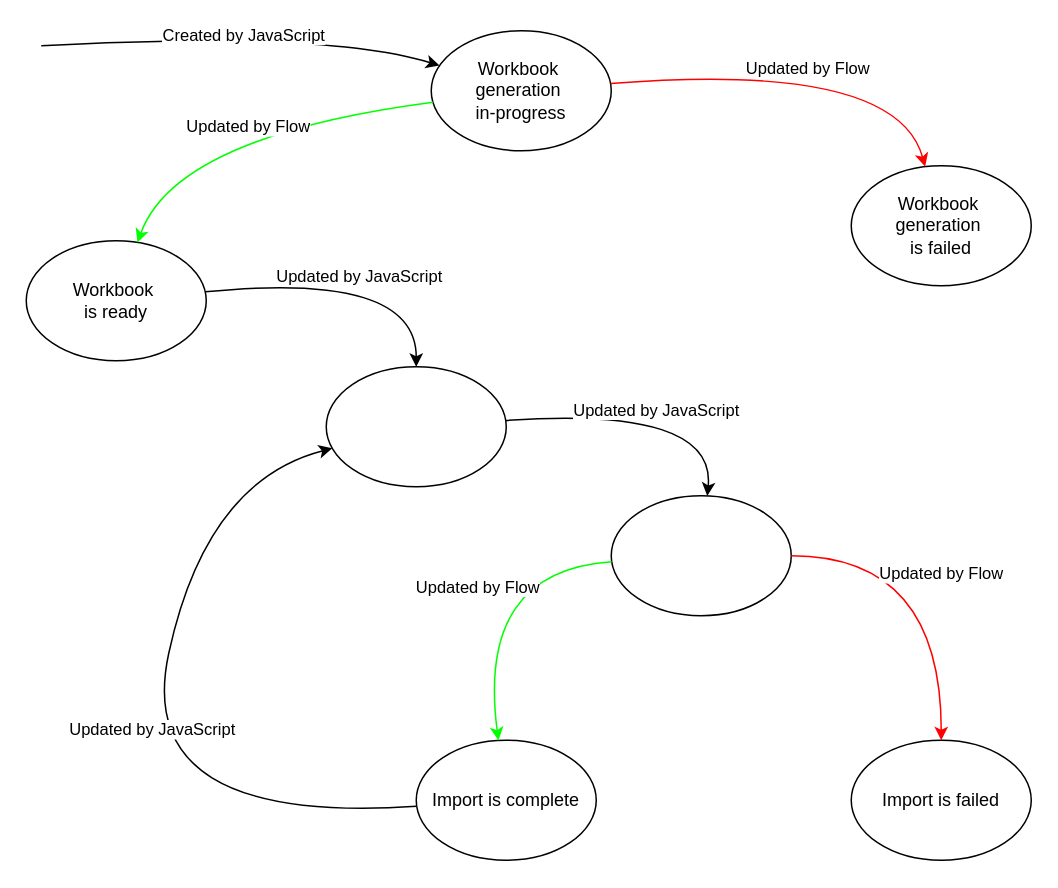
Some shapes in this 1058 by 888 pixel diagram are drawn without their labels. The box of each missing label's shape, as (x1, y1, x2, y2) in pixels:
Import in-progress: (610, 494, 791, 616)
Ready for import: (325, 365, 506, 487)
